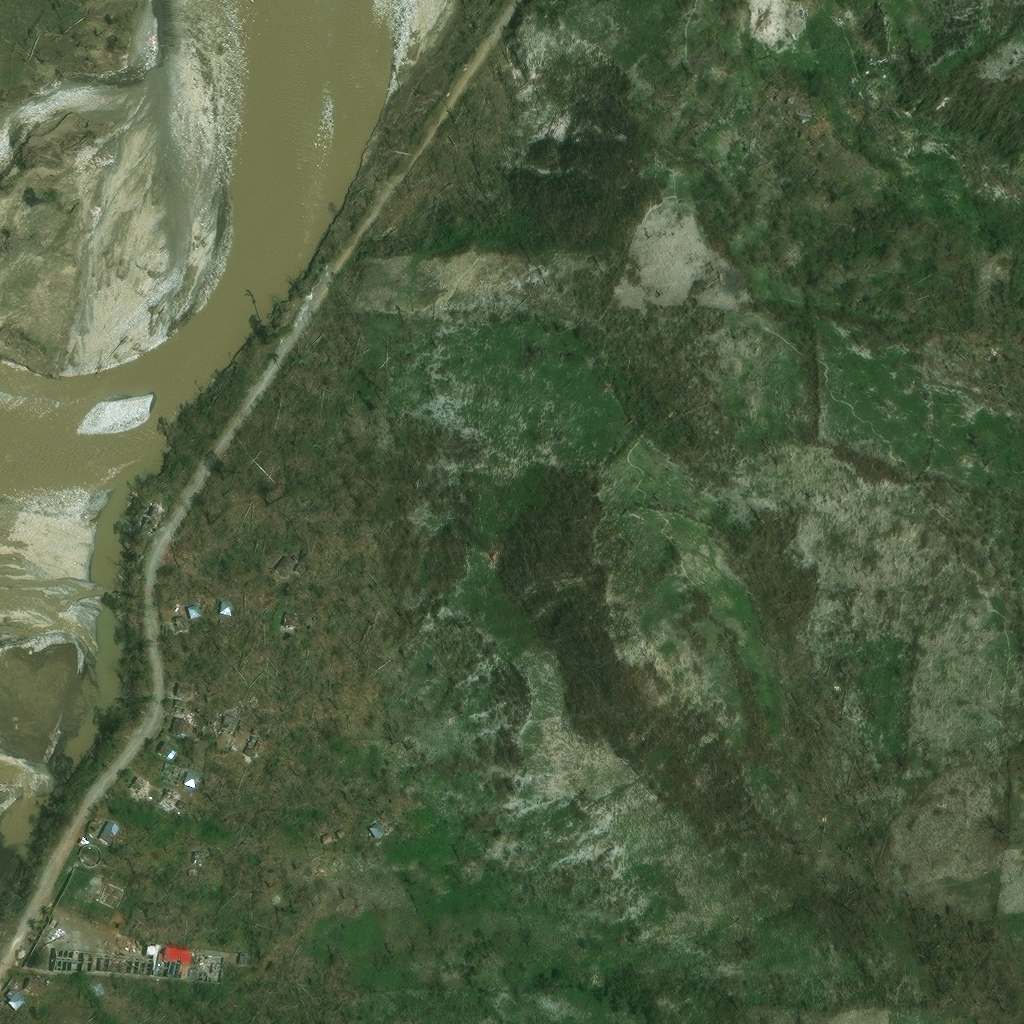destroyed: (639, 562, 673, 592), (162, 489, 188, 510), (381, 811, 402, 832), (35, 970, 60, 986), (199, 841, 219, 856), (840, 106, 853, 121), (220, 514, 235, 527), (159, 512, 173, 525), (296, 885, 313, 895), (733, 273, 745, 284), (347, 851, 357, 861)
major_damage: (70, 932, 248, 969), (134, 770, 159, 798), (254, 725, 277, 751), (177, 711, 201, 735), (164, 735, 185, 756), (233, 709, 250, 728)
minor_damage: (292, 543, 317, 567), (105, 815, 127, 838), (170, 780, 189, 802), (183, 608, 202, 627), (301, 599, 319, 616), (184, 693, 197, 709), (186, 677, 201, 690)
